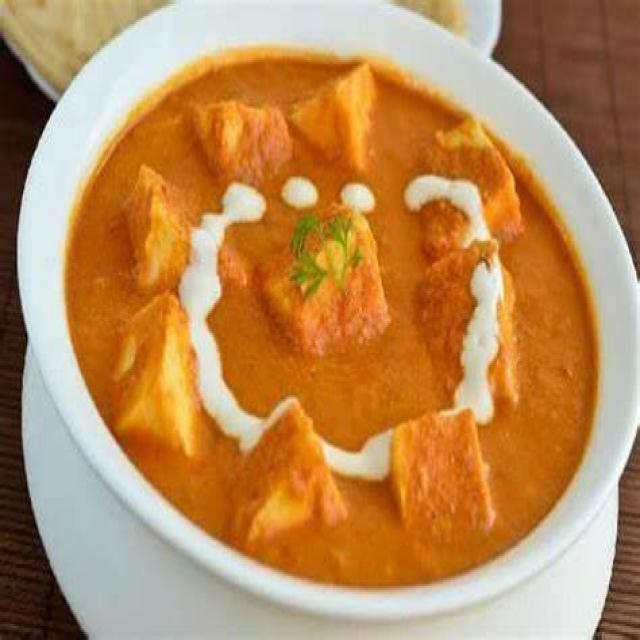ShahiPaneer: (64, 44, 596, 574)
